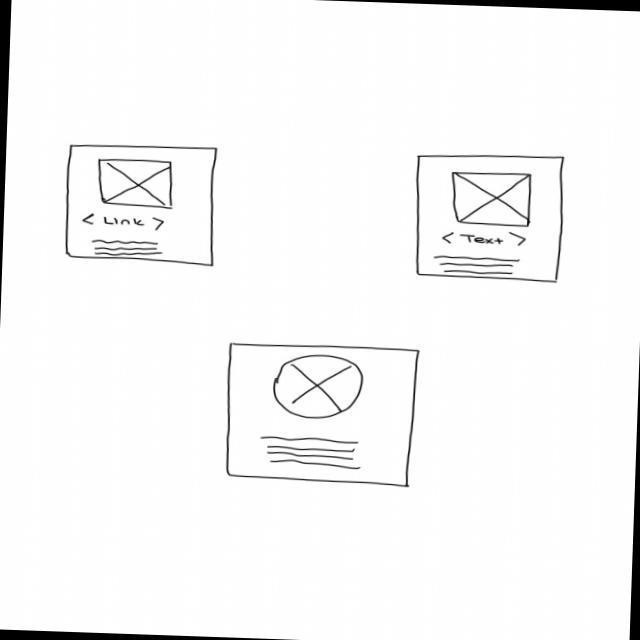container: (221, 340, 424, 491), (409, 150, 569, 285), (62, 141, 222, 269)
image: (272, 352, 366, 422), (450, 171, 537, 229), (95, 157, 177, 211)
link: (81, 212, 167, 233), (441, 229, 529, 249)
textbox: (257, 433, 365, 472), (433, 254, 522, 279), (90, 238, 165, 260)
